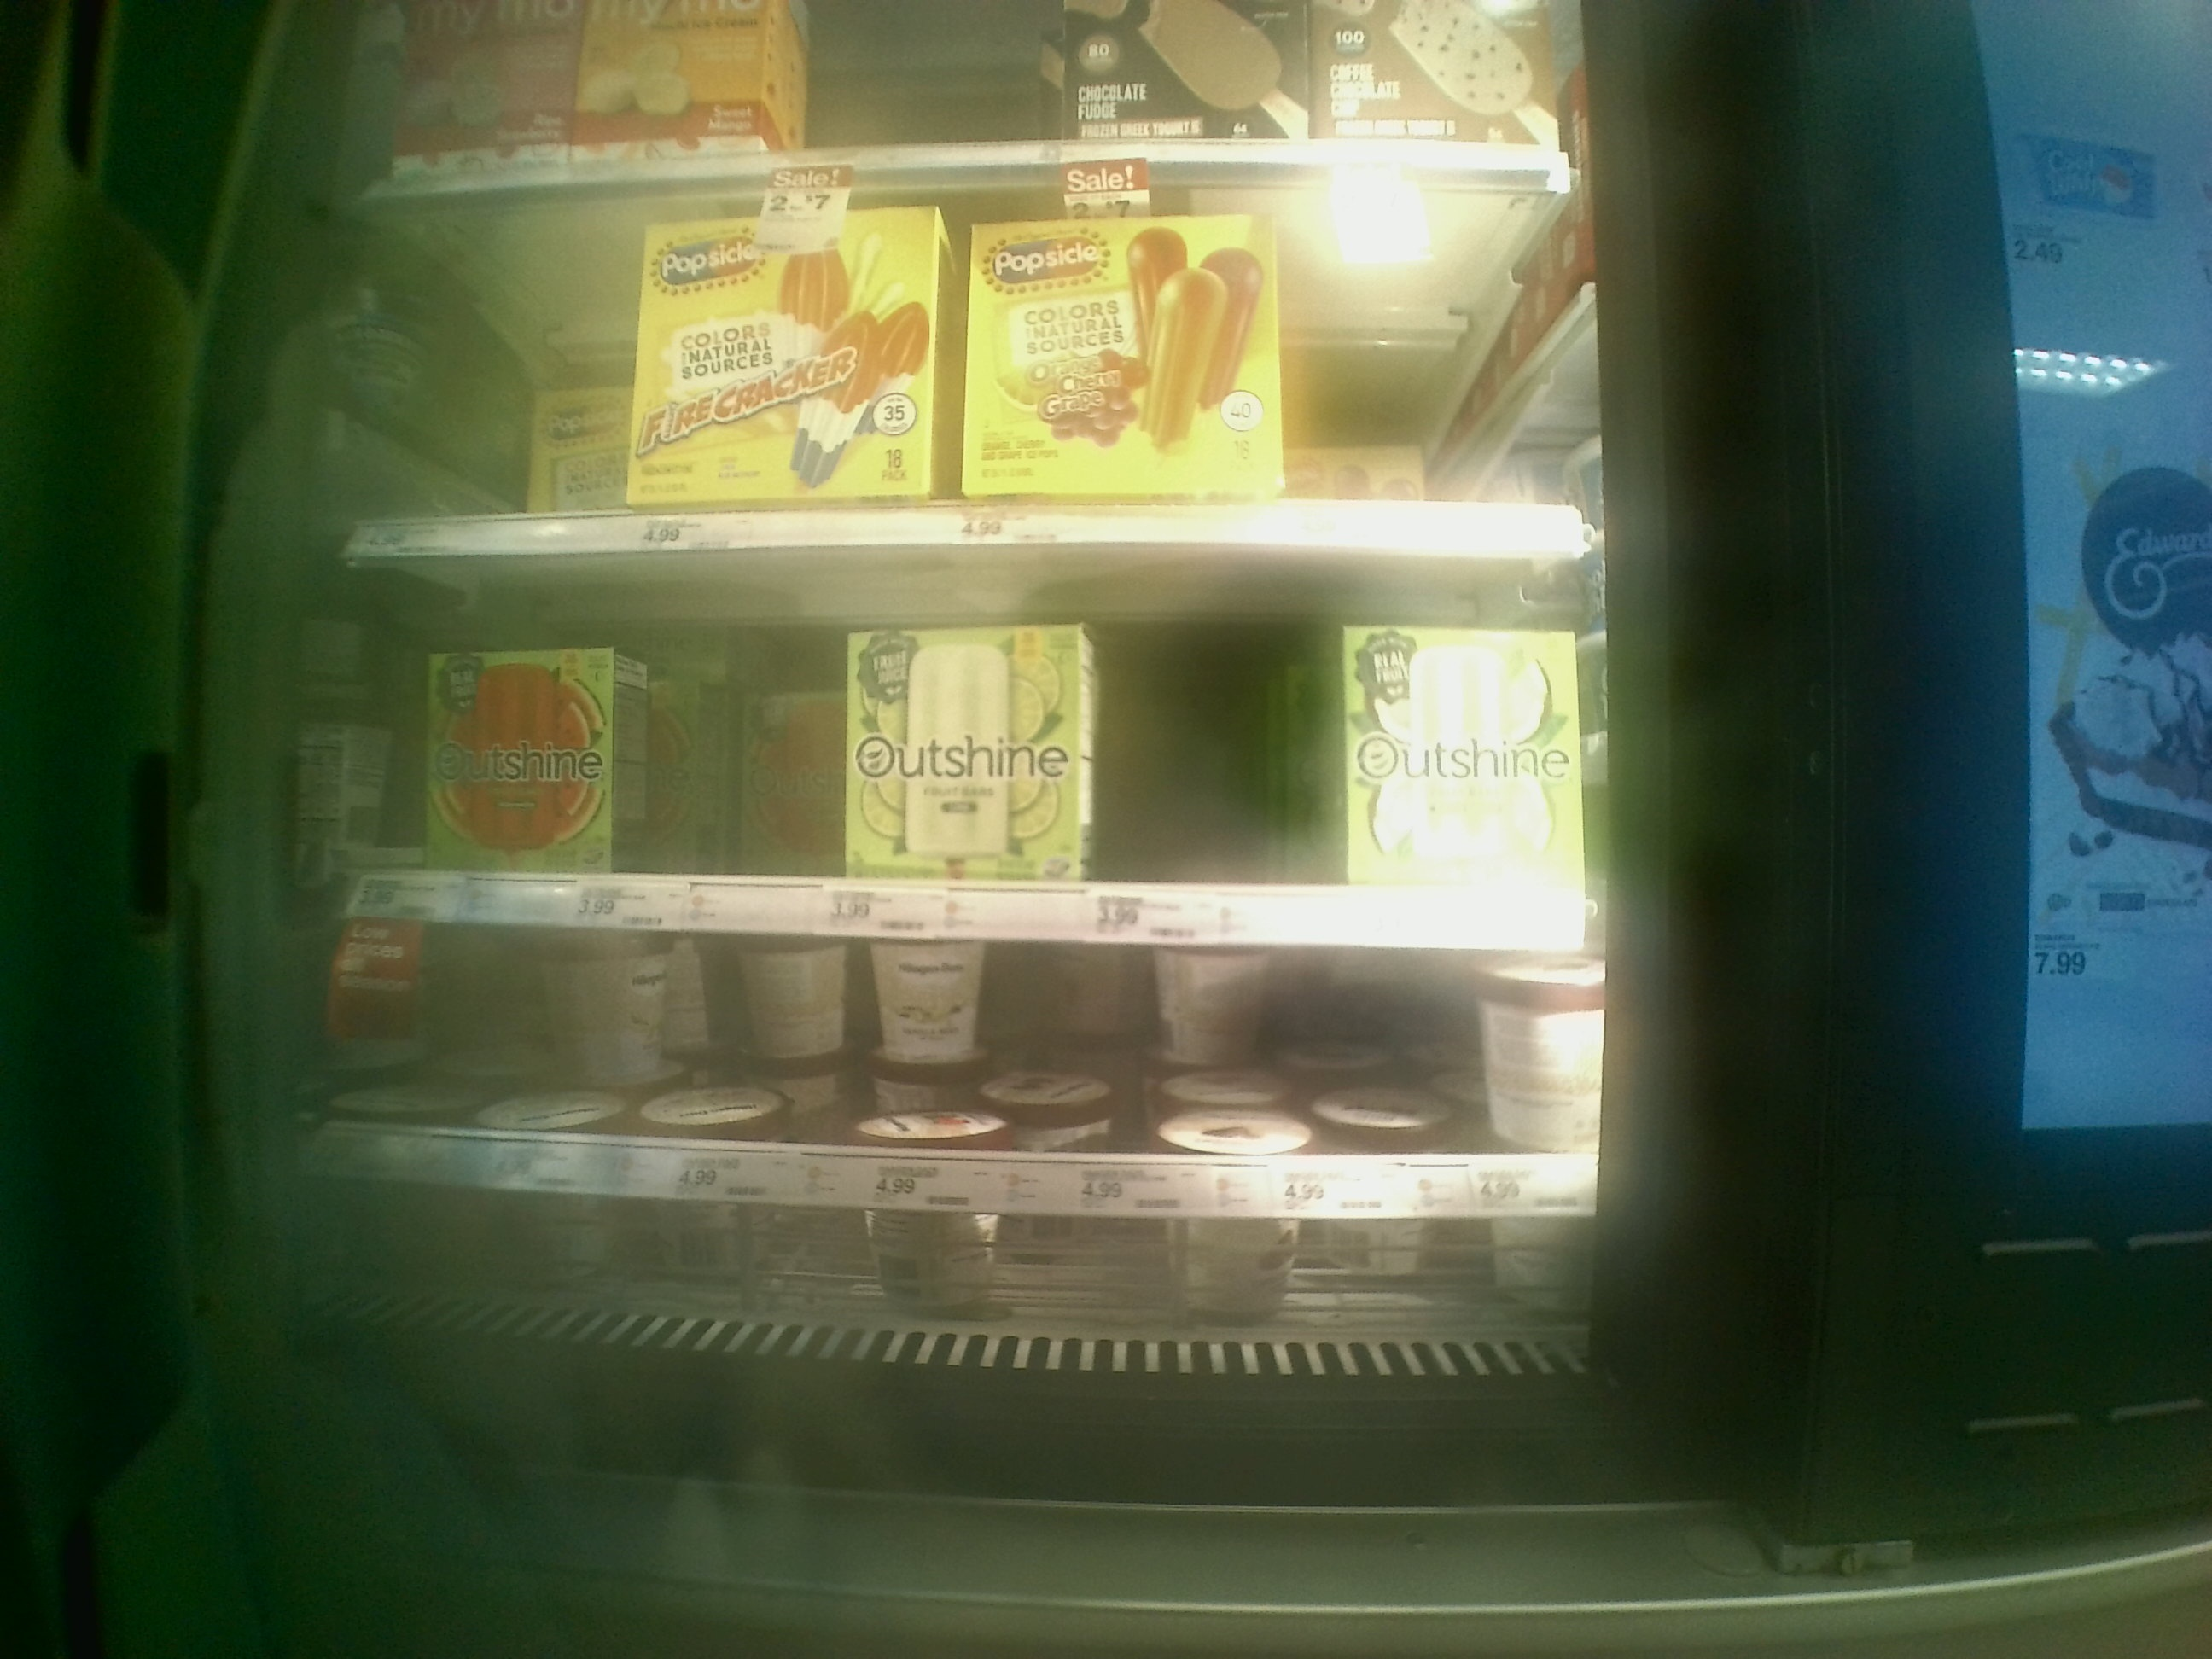ice-cream-shelf: (361, 552, 1604, 948), (371, 174, 1622, 547), (359, 924, 1606, 1213)
